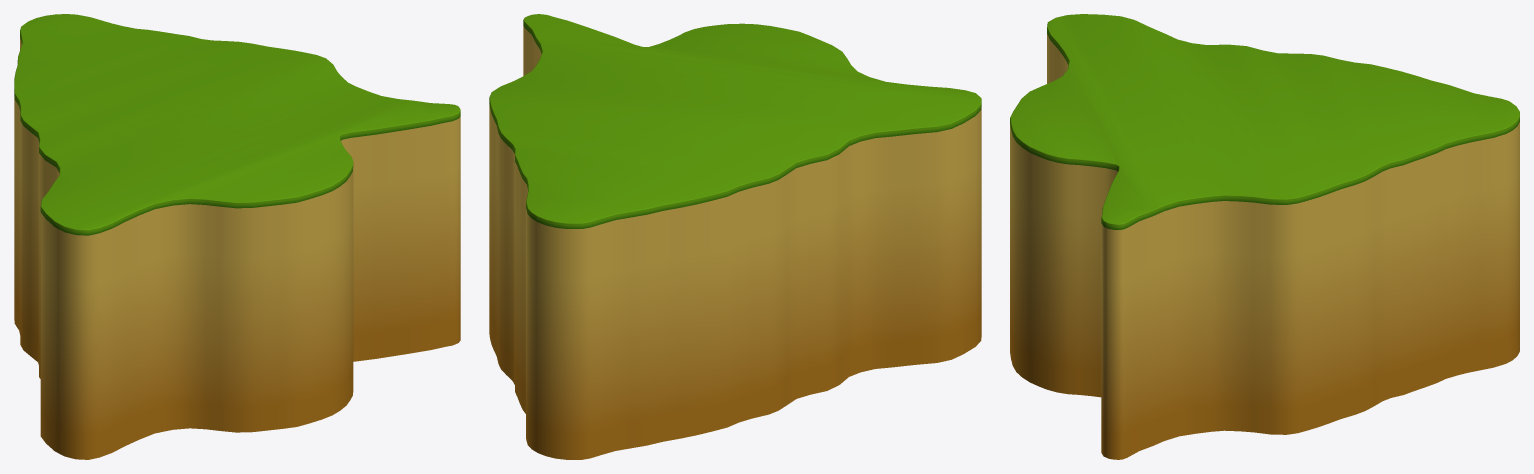
File: LM100NAT03.fbx
3 renders of one model, left to right at view 1: azimuth 30°, elevation 25°; view 2: azimuth 150°, elevation 25°; view 3: azimuth 270°, elevation 25°, orthographic. The views are drawn at different scales.
Parts seen in each view (by area): view 1: LOD0; view 2: LOD0; view 3: LOD0.
Part boxes in pixels (bbox=[...]): LOD0: bbox=[14, 14, 460, 459]; LOD0: bbox=[489, 14, 981, 459]; LOD0: bbox=[1010, 14, 1519, 459].
Size of what is drawn, in the model's own units: 9576 by 9800 by 5000.
